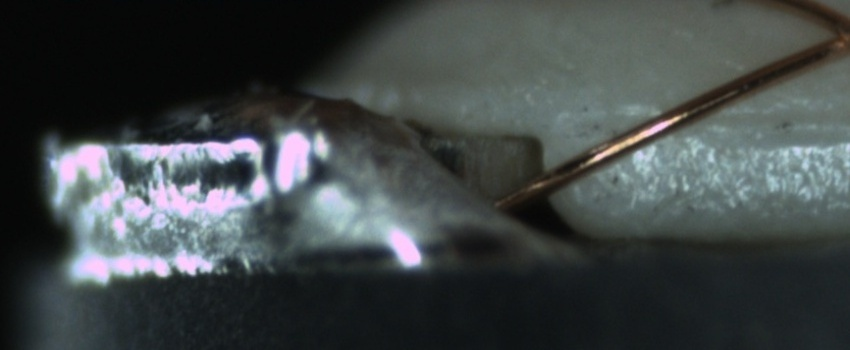CL: (804, 2, 850, 64)
DL: (609, 85, 849, 157)
